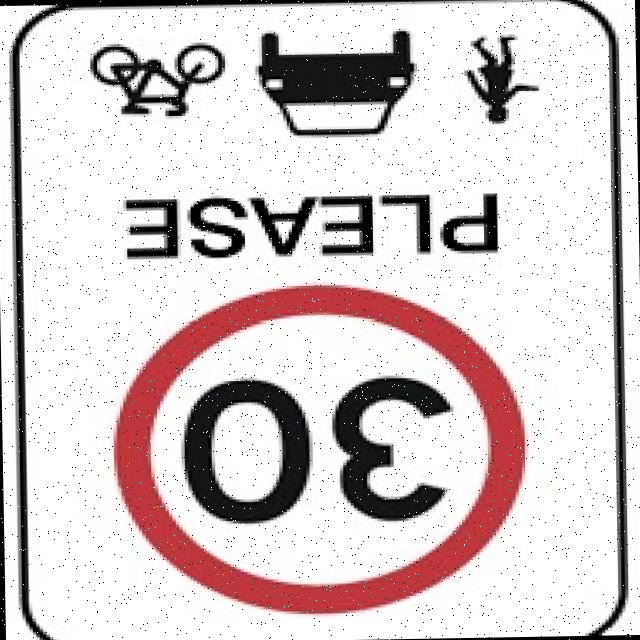speed_limit_30: (99, 274, 538, 621)
